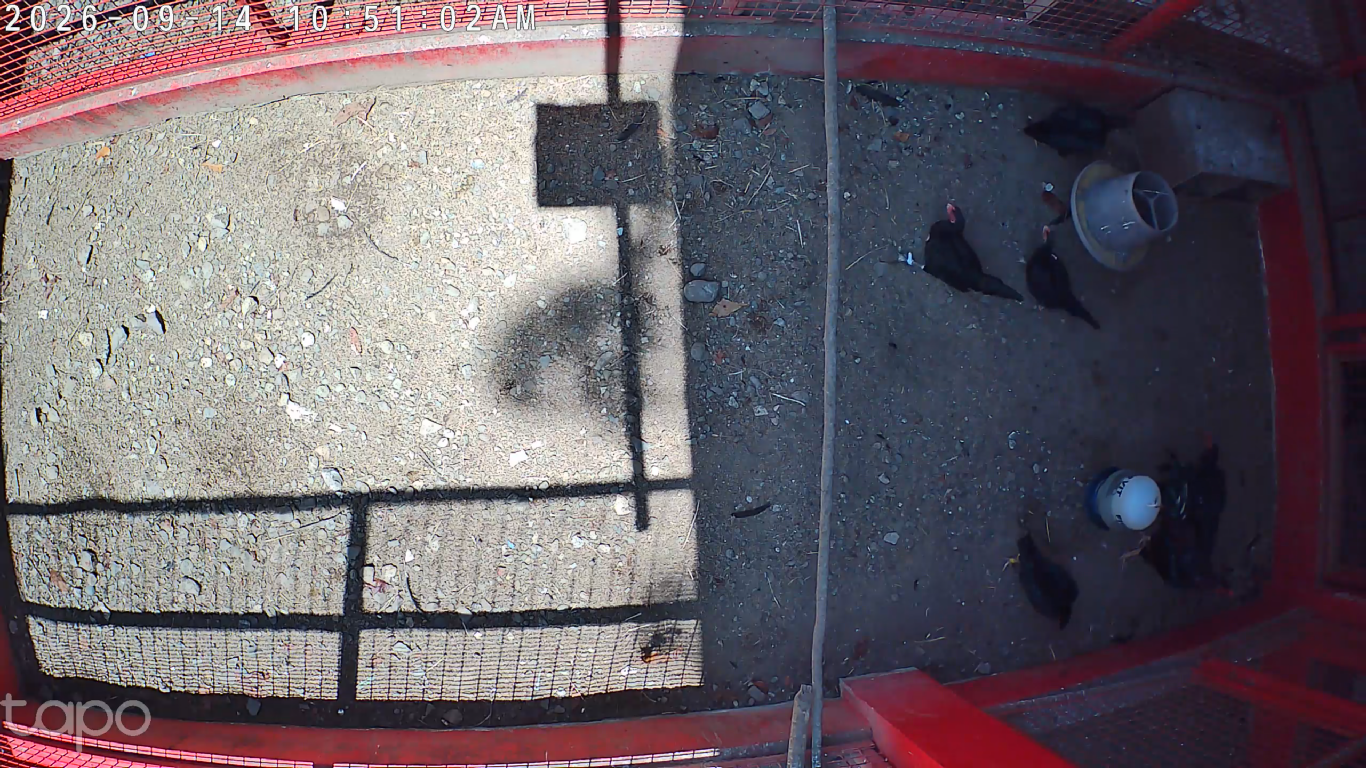Chicken: (891, 201, 1024, 303), (999, 530, 1092, 633), (1012, 223, 1102, 329), (1021, 94, 1142, 160)
Rooster: (1098, 448, 1236, 602)
